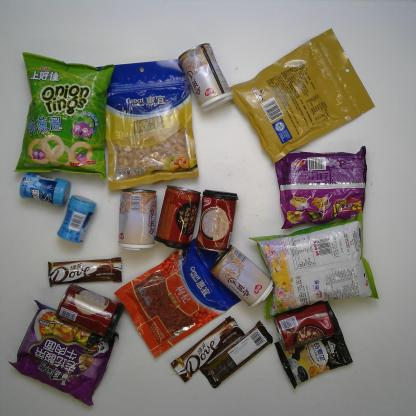Canned Food: (208, 243, 274, 308), (178, 41, 234, 113), (55, 282, 124, 340), (274, 301, 339, 348), (155, 185, 201, 250), (195, 188, 238, 253), (117, 188, 156, 253)
Chocolate: (170, 314, 244, 384), (198, 322, 274, 388), (43, 256, 123, 289)
Dried Fruit: (224, 28, 375, 165), (115, 236, 243, 358), (101, 58, 201, 188)
Gum: (57, 194, 97, 244), (18, 171, 72, 206)
Instant Drink: (273, 321, 354, 387)
Instant Noodles: (10, 298, 118, 408), (269, 144, 367, 230)
Puffed Food: (246, 208, 380, 320), (14, 50, 115, 178)
